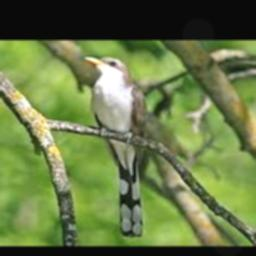Cuckoo: (84, 56, 150, 237)
